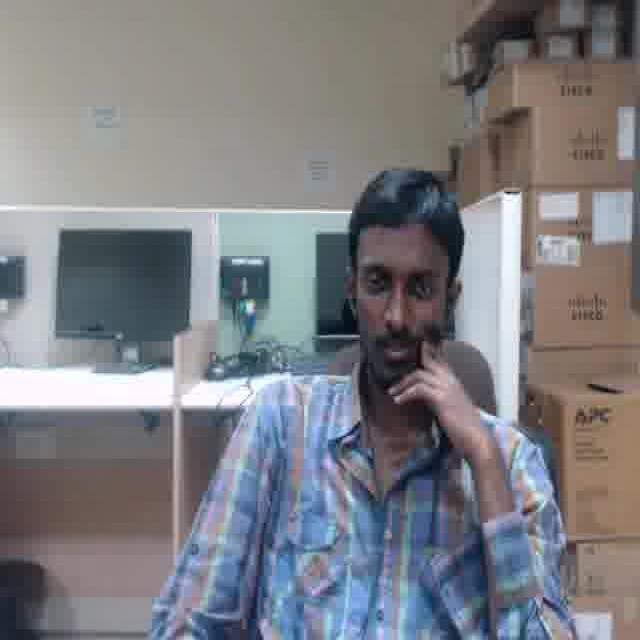Engaged: (352, 231, 444, 388)
